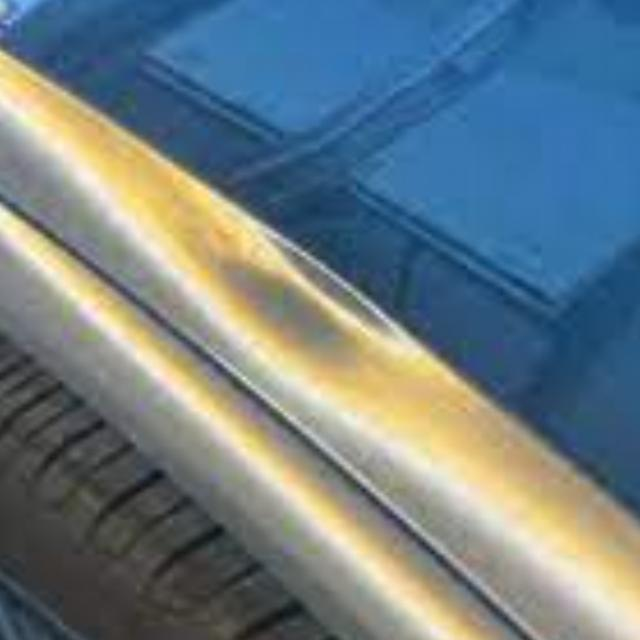dents: (156, 179, 452, 425)
